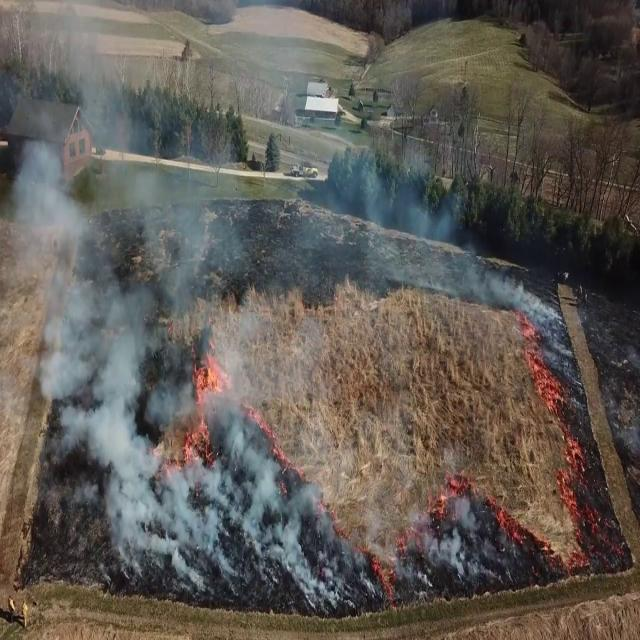Smoke: (0, 16, 315, 601)
